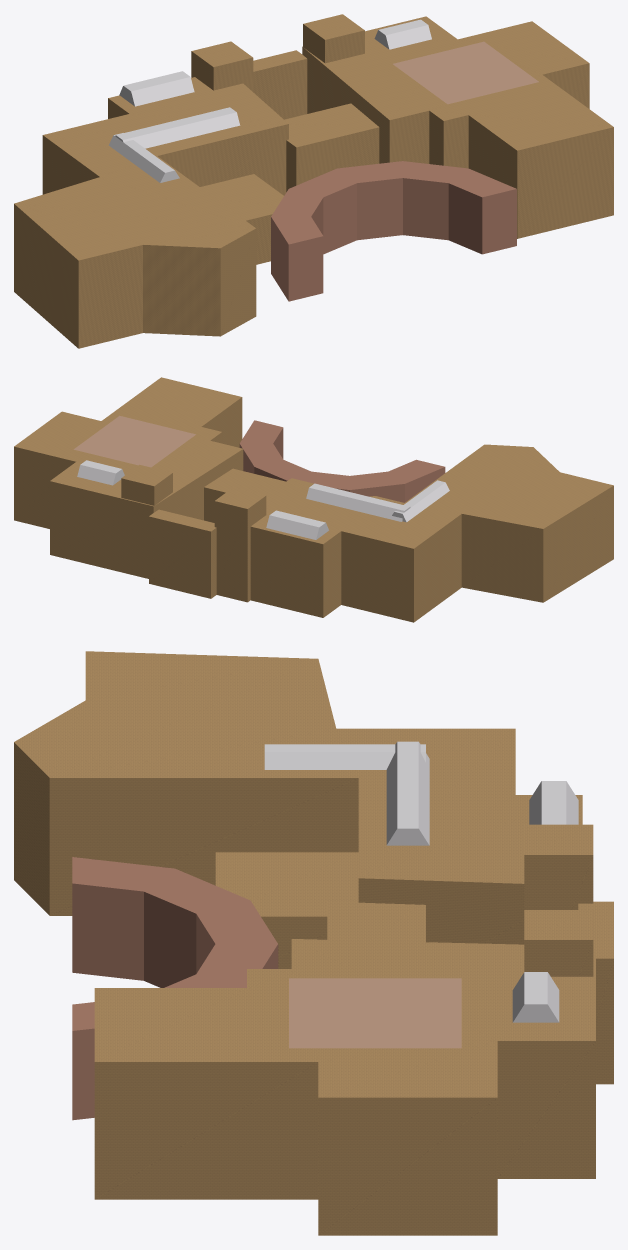
Rendered from pnca_far.glb.
The picture shows the model from 3 angles, top to bottom: view 1: azimuth 30°, elevation 25°; view 2: azimuth 150°, elevation 25°; view 3: azimuth 270°, elevation 25°; orthographic projection. The views are drawn at different scales.
Visible parts, largest first — view 1: m_pnca_brick, m_pnca_terracotta_roof, m_pnca_barrel, m_pnca_court; view 2: m_pnca_brick, m_pnca_terracotta_roof, m_pnca_barrel, m_pnca_court; view 3: m_pnca_brick, m_pnca_terracotta_roof, m_pnca_court, m_pnca_barrel.
Part boxes in pixels (bbox=[...]): m_pnca_brick: bbox=[14, 14, 613, 348]; m_pnca_terracotta_roof: bbox=[271, 161, 516, 301]; m_pnca_barrel: bbox=[108, 19, 431, 182]; m_pnca_court: bbox=[393, 41, 538, 104]; m_pnca_brick: bbox=[14, 377, 613, 622]; m_pnca_terracotta_roof: bbox=[239, 420, 445, 502]; m_pnca_barrel: bbox=[77, 460, 449, 539]; m_pnca_court: bbox=[73, 415, 195, 467]; m_pnca_brick: bbox=[14, 651, 613, 1235]; m_pnca_terracotta_roof: bbox=[72, 857, 278, 1120]; m_pnca_court: bbox=[289, 978, 461, 1048]; m_pnca_barrel: bbox=[264, 741, 578, 1022].
Bounding box in the file's own units: 118 × 21.5 × 67.
4 materials, 1 textured.
